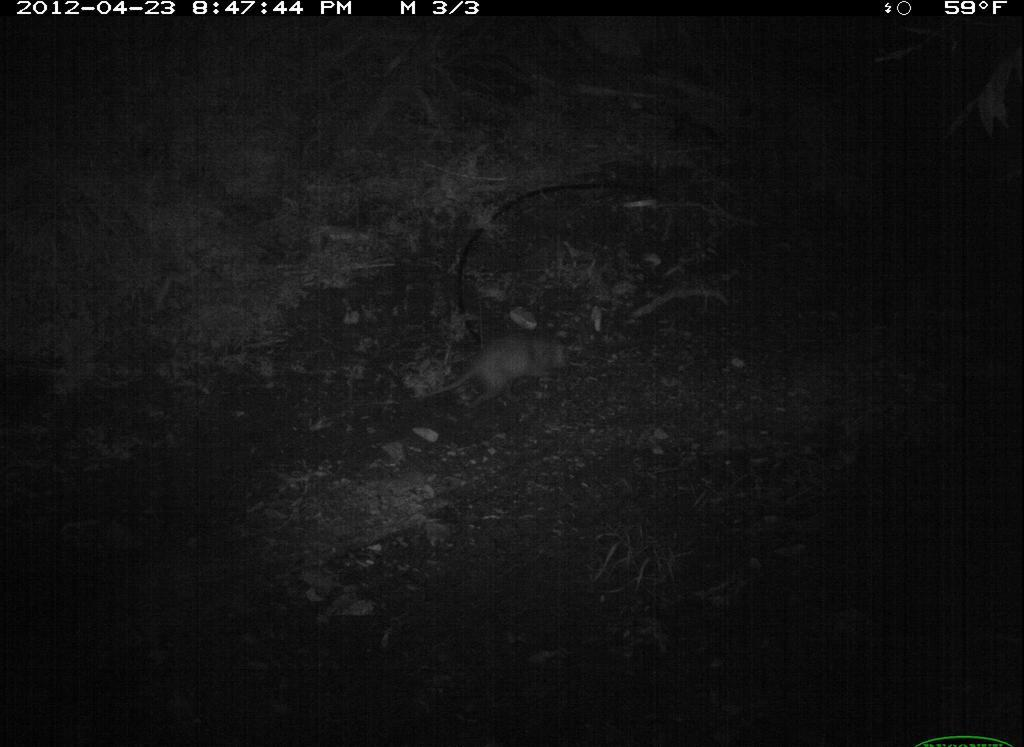opossum: (413, 328, 581, 417)
